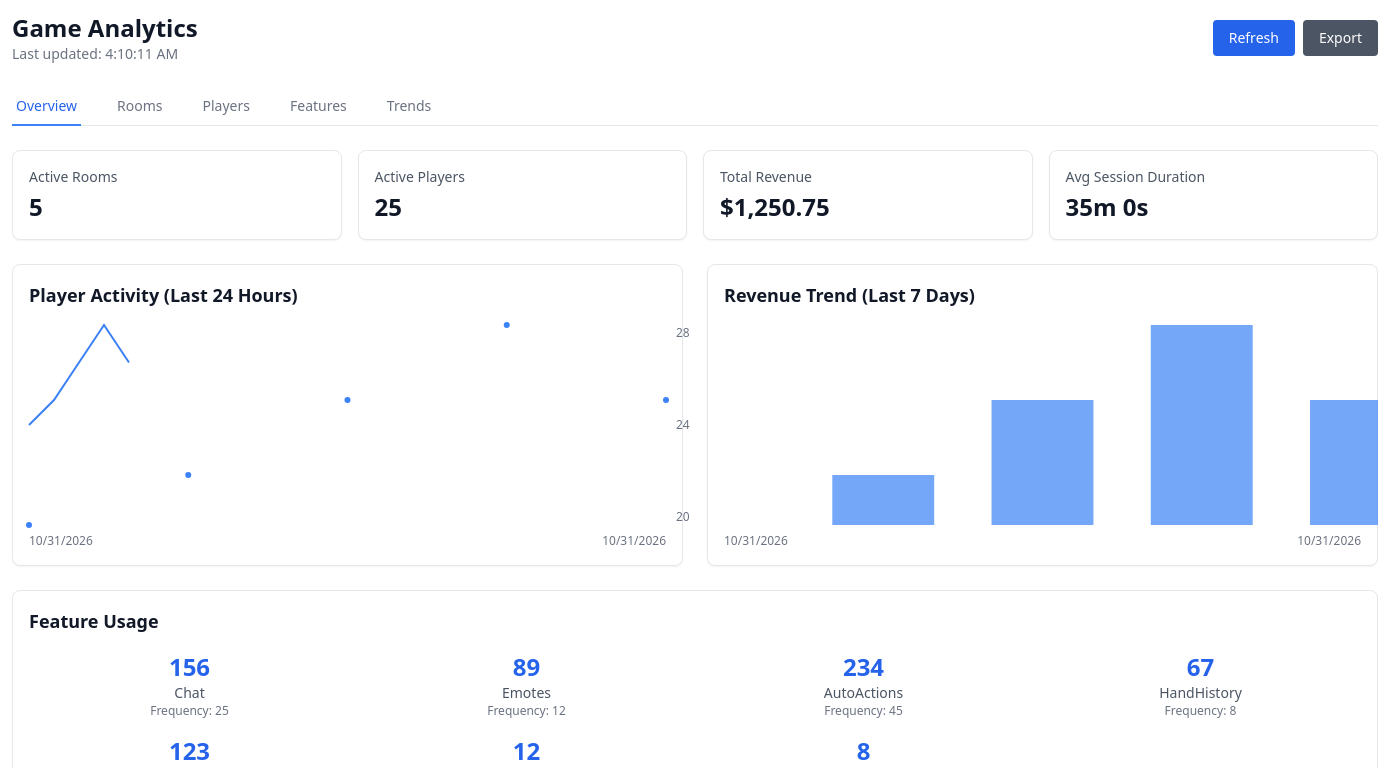
Scenario: GameAnalyticsDashboard › Trends Tab Content › should display trend charts
Click the button "Trends".
click(409, 107)  # box [383,88,435,126]
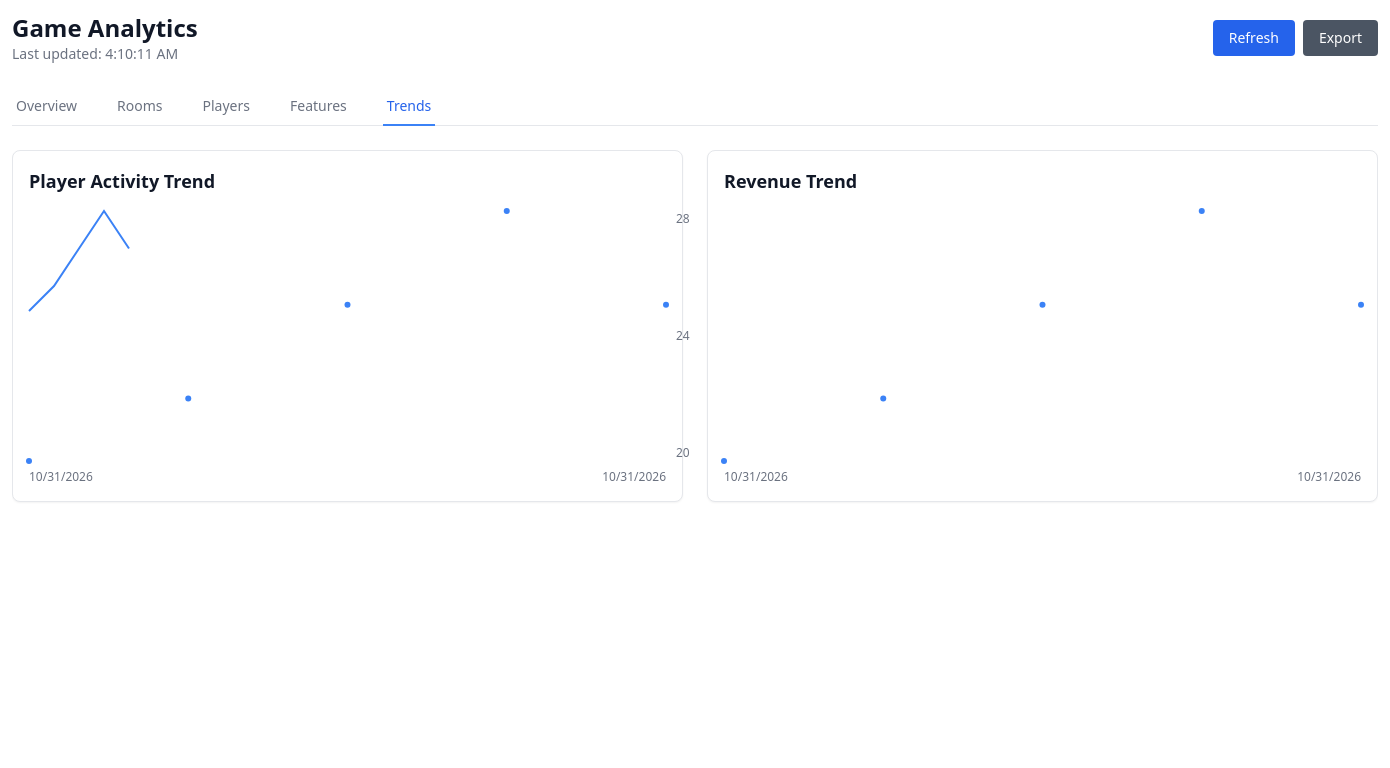
Expected: the heading "Revenue Trend" is shown, [724,169,857,193]
Now the heading "Player Activity Trend" is shown, box [29,169,215,193]
